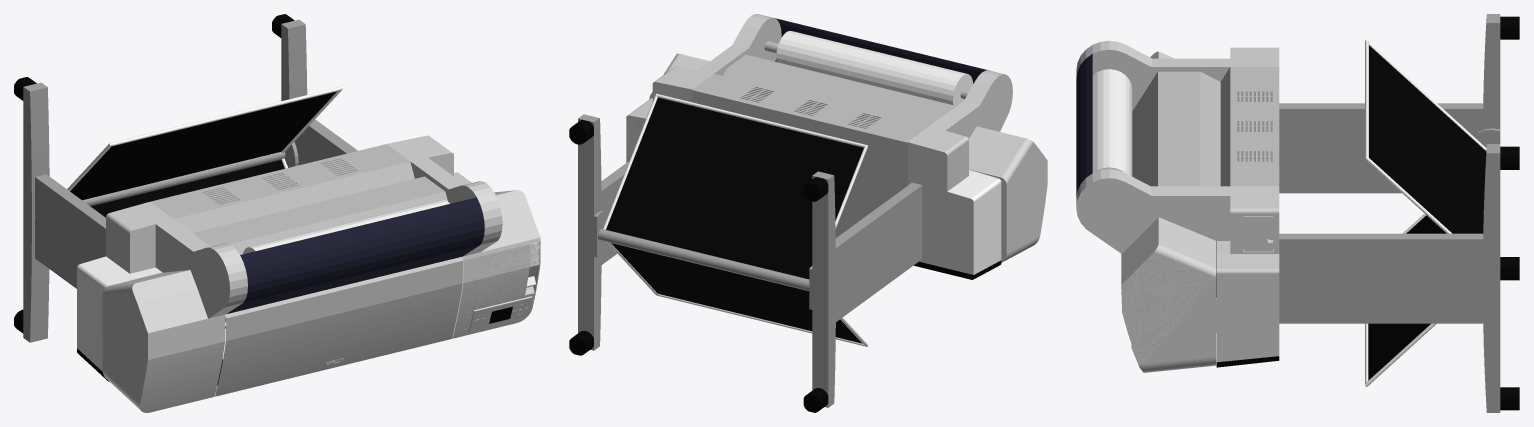
The picture shows the model from 3 angles, left to right: view 1: azimuth 30°, elevation 25°; view 2: azimuth 150°, elevation 25°; view 3: azimuth 270°, elevation 25°; orthographic projection. The views are drawn at different scales.
Parts seen in each view (by area): view 1: epson stylus pro; view 2: epson stylus pro; view 3: epson stylus pro.
Part boxes in pixels (<box>): epson stylus pro: <box>14,14,540,412</box>; epson stylus pro: <box>569,14,1047,412</box>; epson stylus pro: <box>1076,14,1519,412</box>.
Bounding box in the file's own units: 47.67 × 29.13 × 45.06.
